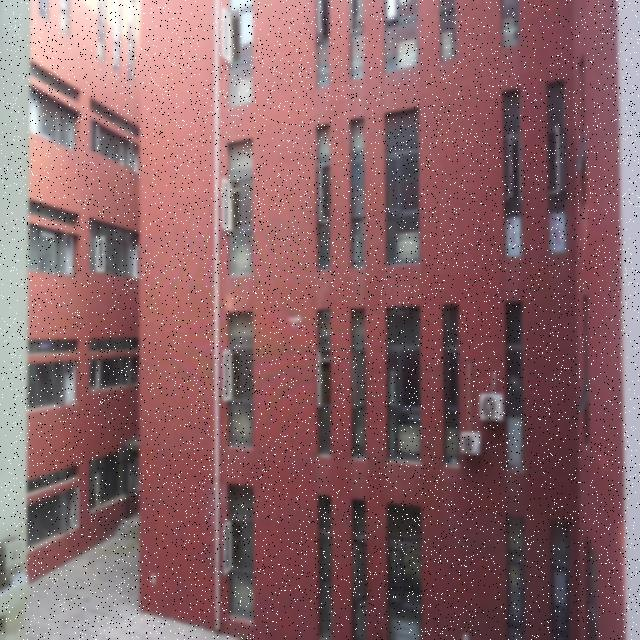UAV: (288, 317, 302, 327)
